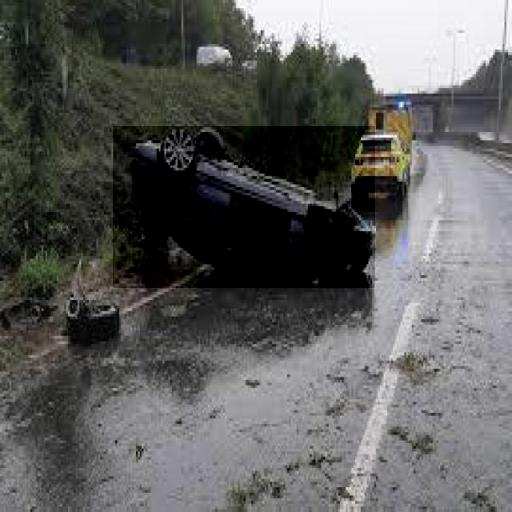小汽车: (348, 122, 413, 204)
小汽车撞物: (113, 126, 375, 288)
